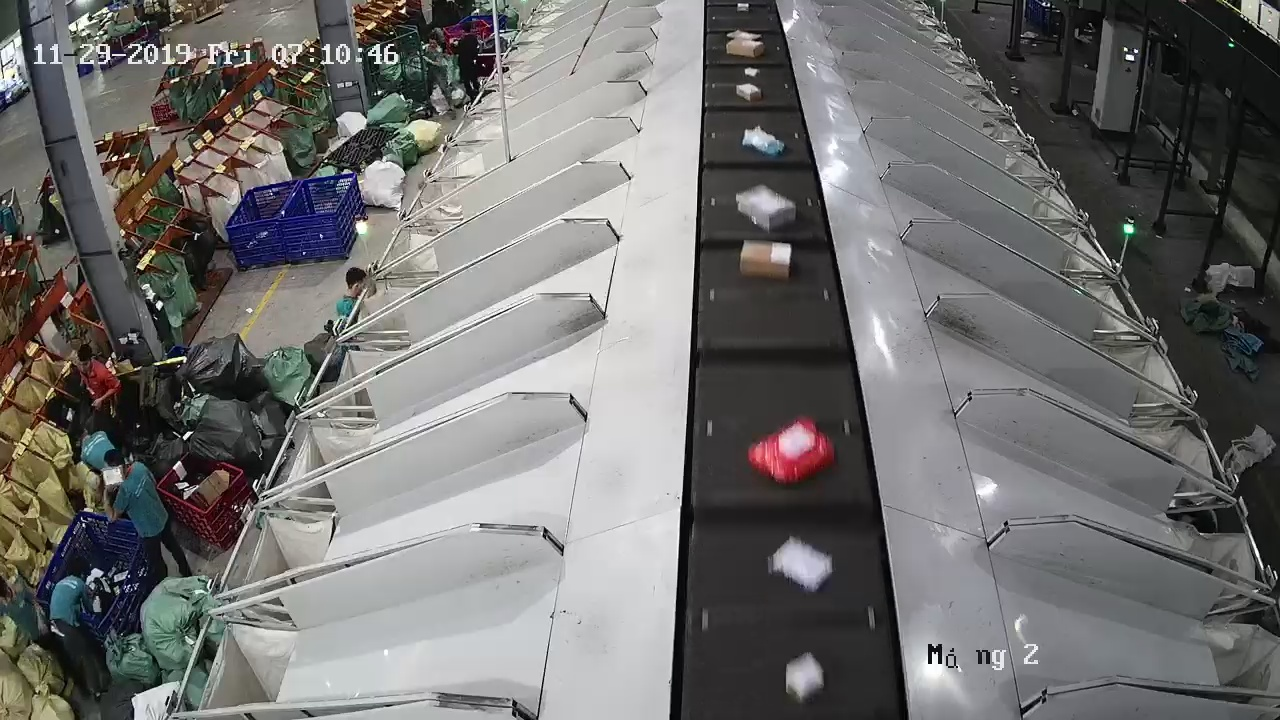parcel: (748, 418, 836, 487), (770, 535, 833, 594), (737, 184, 796, 232), (739, 239, 792, 281), (786, 653, 824, 705), (741, 125, 785, 156)
